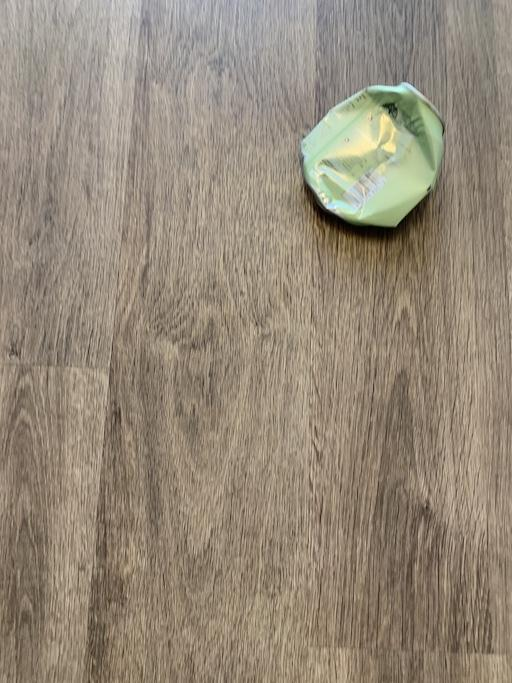Aluminum can: (282, 67, 456, 242)
